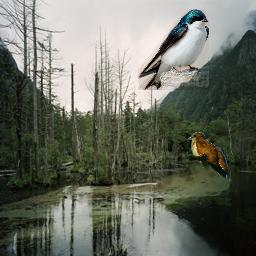Cuckoo: (188, 132, 228, 179)
Swallow: (138, 9, 209, 90)
